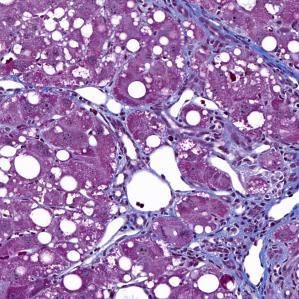fibrosis: (209, 206, 276, 273), (238, 135, 299, 200)
